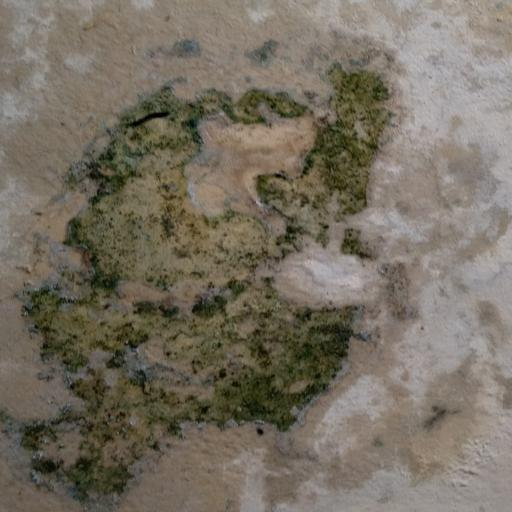algae: (19, 43, 406, 512)
